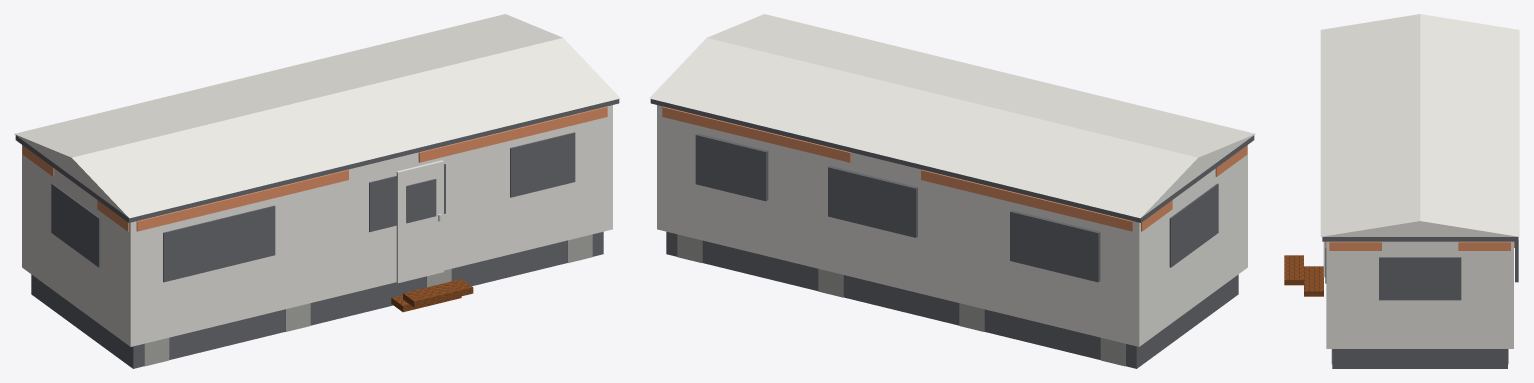
The model's file is caravan-park-and-campsite-static-caravan-sunset-livery-ddb0d5fc__35344.glb.
3 views of the same model, side by side, from view 1: azimuth 30°, elevation 25°; view 2: azimuth 150°, elevation 25°; view 3: azimuth 270°, elevation 25° (orthographic). The views are drawn at different scales.
Parts seen in each view (by area): view 1: static-caravan-sunset-livery-shell, static-caravan-sunset-livery-charcoal, static-caravan-sunset-livery-azure, door/shell, static-caravan-sunset-livery-hard, static-caravan-sunset-livery-timber, door/charcoal; view 2: static-caravan-sunset-livery-shell, static-caravan-sunset-livery-charcoal, static-caravan-sunset-livery-azure, static-caravan-sunset-livery-hard; view 3: static-caravan-sunset-livery-shell, static-caravan-sunset-livery-charcoal, static-caravan-sunset-livery-timber, static-caravan-sunset-livery-azure.
Boxes of the visible parts, bbox=[...] form: static-caravan-sunset-livery-shell: bbox=[14, 14, 620, 346]; static-caravan-sunset-livery-charcoal: bbox=[15, 99, 619, 368]; static-caravan-sunset-livery-azure: bbox=[22, 106, 607, 231]; door/shell: bbox=[396, 160, 443, 283]; static-caravan-sunset-livery-hard: bbox=[144, 234, 592, 366]; static-caravan-sunset-livery-timber: bbox=[391, 279, 473, 312]; door/charcoal: bbox=[406, 179, 436, 223]; static-caravan-sunset-livery-shell: bbox=[649, 14, 1255, 346]; static-caravan-sunset-livery-charcoal: bbox=[650, 99, 1254, 368]; static-caravan-sunset-livery-azure: bbox=[662, 106, 1247, 231]; static-caravan-sunset-livery-hard: bbox=[677, 234, 1125, 366]; static-caravan-sunset-livery-shell: bbox=[1320, 14, 1519, 348]; static-caravan-sunset-livery-charcoal: bbox=[1322, 237, 1518, 368]; static-caravan-sunset-livery-timber: bbox=[1284, 255, 1323, 296]; static-caravan-sunset-livery-azure: bbox=[1325, 241, 1514, 250].
Size of the model in its own units: 8.36 by 2.87 by 4.02.
6 materials, 2 textured.
